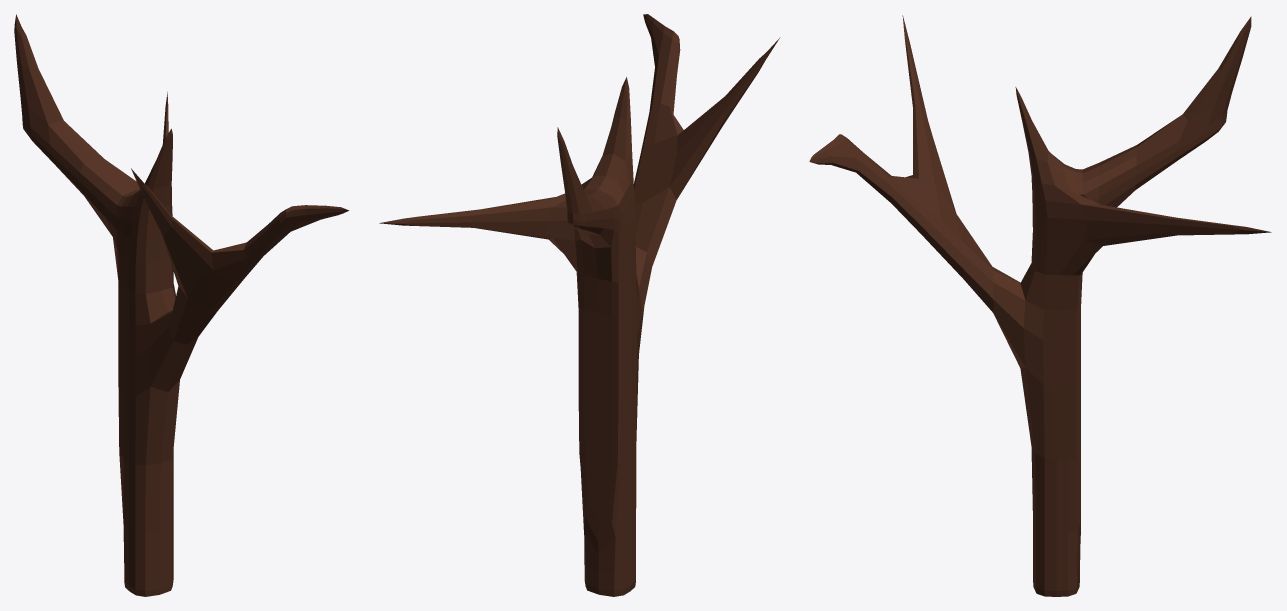
File: Tree1.fbx
3 views of the same model, side by side, from view 1: azimuth 30°, elevation 25°; view 2: azimuth 150°, elevation 25°; view 3: azimuth 270°, elevation 25° (orthographic). The views are drawn at different scales.
Parts seen in each view (by area): view 1: Tree1; view 2: Tree1; view 3: Tree1.
Part boxes in pixels (<box>): Tree1: <box>14,14,348,596</box>; Tree1: <box>379,14,780,596</box>; Tree1: <box>809,15,1271,596</box>.
Bounding box in the file's own units: 283 × 664 × 506.
